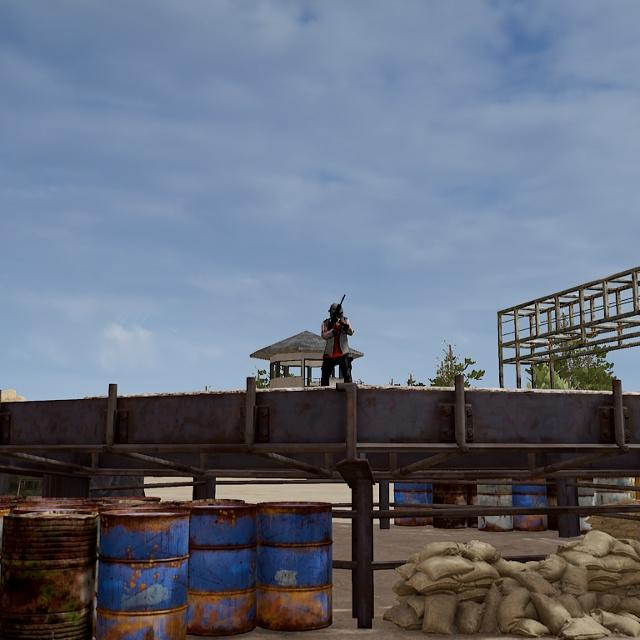head: (327, 300, 347, 322)
people: (315, 298, 366, 387)
